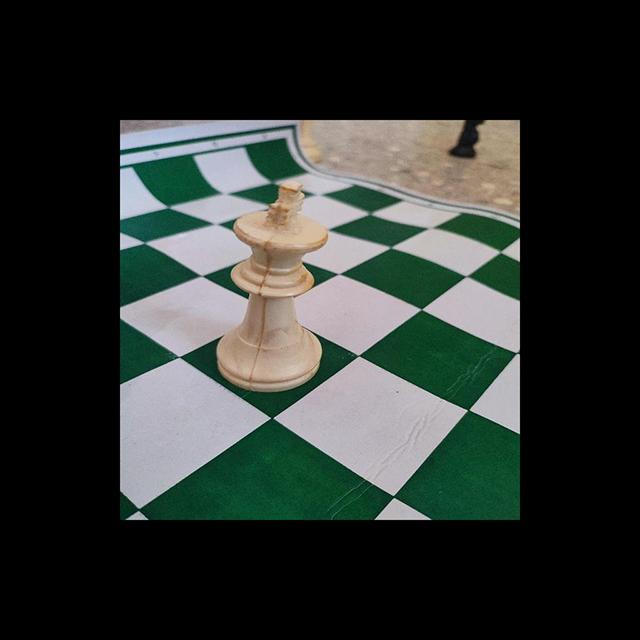white-king: (215, 179, 325, 392)
